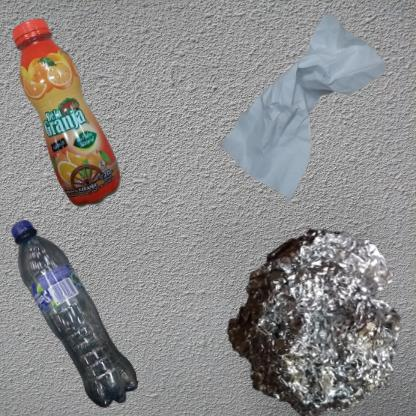aluminio: (213, 213, 416, 416)
botella: (10, 213, 142, 416), (10, 10, 132, 229)
papel: (213, 10, 391, 209)
